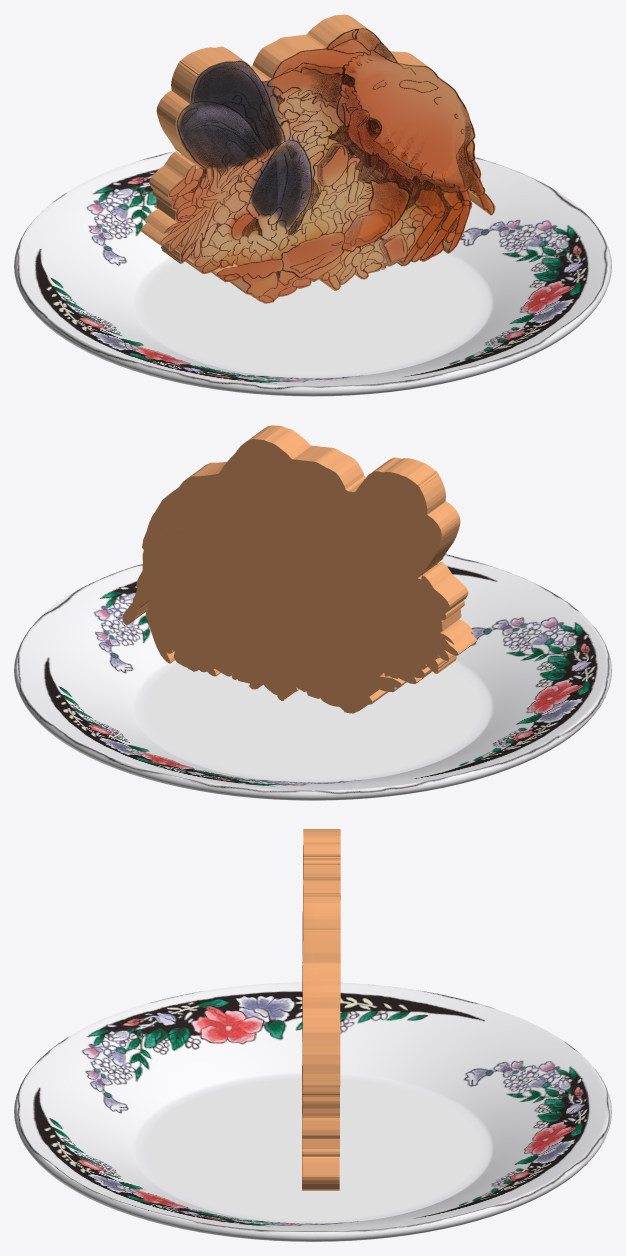
Rendered from Arroz de marisco.glb.
The picture shows the model from 3 angles, top to bottom: view 1: azimuth 30°, elevation 25°; view 2: azimuth 150°, elevation 25°; view 3: azimuth 270°, elevation 25°; orthographic projection.
Parts seen in each view (by area): view 1: Plato.001, Arroz de marisco; view 2: Plato.001, Arroz de marisco; view 3: Plato.001, Arroz de marisco.
Part boxes in pixels (<box>): Plato.001: <box>14,151,611,396</box>; Arroz de marisco: <box>140,14,495,303</box>; Plato.001: <box>14,554,611,800</box>; Arroz de marisco: <box>122,425,477,713</box>; Plato.001: <box>14,982,611,1241</box>; Arroz de marisco: <box>302,829,340,1190</box>.
Bounding box in the file's own units: 18.56 × 9.57 × 18.56.
2 materials, 2 textured.
